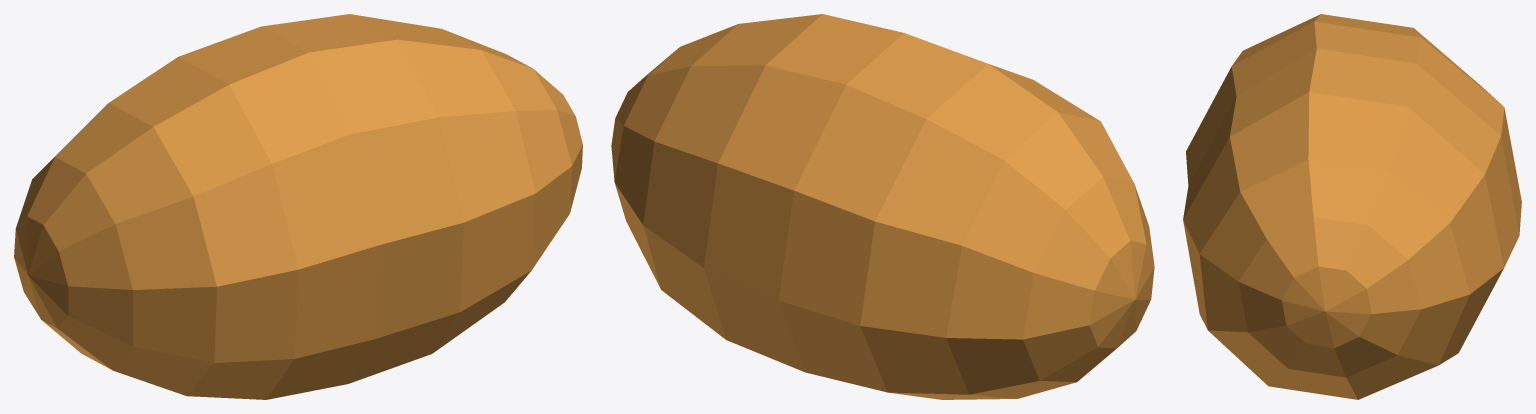
Rendered from Potato.fbx.
The picture shows the model from 3 angles, left to right: view 1: azimuth 30°, elevation 25°; view 2: azimuth 150°, elevation 25°; view 3: azimuth 270°, elevation 25°; orthographic projection. The views are drawn at different scales.
Parts seen in each view (by area): view 1: Potato_01; view 2: Potato_01; view 3: Potato_01.
Part boxes in pixels (x1,y1,x2,y2): Potato_01: (14, 14, 582, 399); Potato_01: (611, 14, 1154, 399); Potato_01: (1183, 14, 1521, 399).
Bounding box in the file's own units: 13851 × 8358 × 8200.
